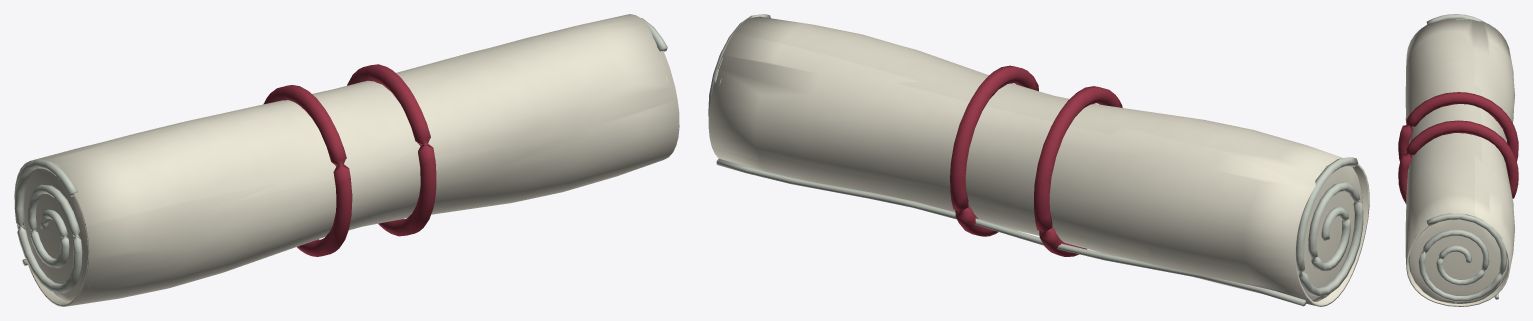
File: 04_Rolled_Napkin.fbx
The picture shows the model from 3 angles, left to right: view 1: azimuth 30°, elevation 25°; view 2: azimuth 150°, elevation 25°; view 3: azimuth 270°, elevation 25°; orthographic projection. The views are drawn at different scales.
Visible parts, largest first — view 1: 04_Rolled_Napkin_Mesh; view 2: 04_Rolled_Napkin_Mesh; view 3: 04_Rolled_Napkin_Mesh.
Part boxes in pixels (left/top/right/bottom): 04_Rolled_Napkin_Mesh: left=14, top=14, right=679, bottom=306; 04_Rolled_Napkin_Mesh: left=708, top=14, right=1369, bottom=306; 04_Rolled_Napkin_Mesh: left=1398, top=14, right=1518, bottom=306.
Size of the model in its own units: 19.88 by 5.01 by 5.01.
1 material, 1 textured.
